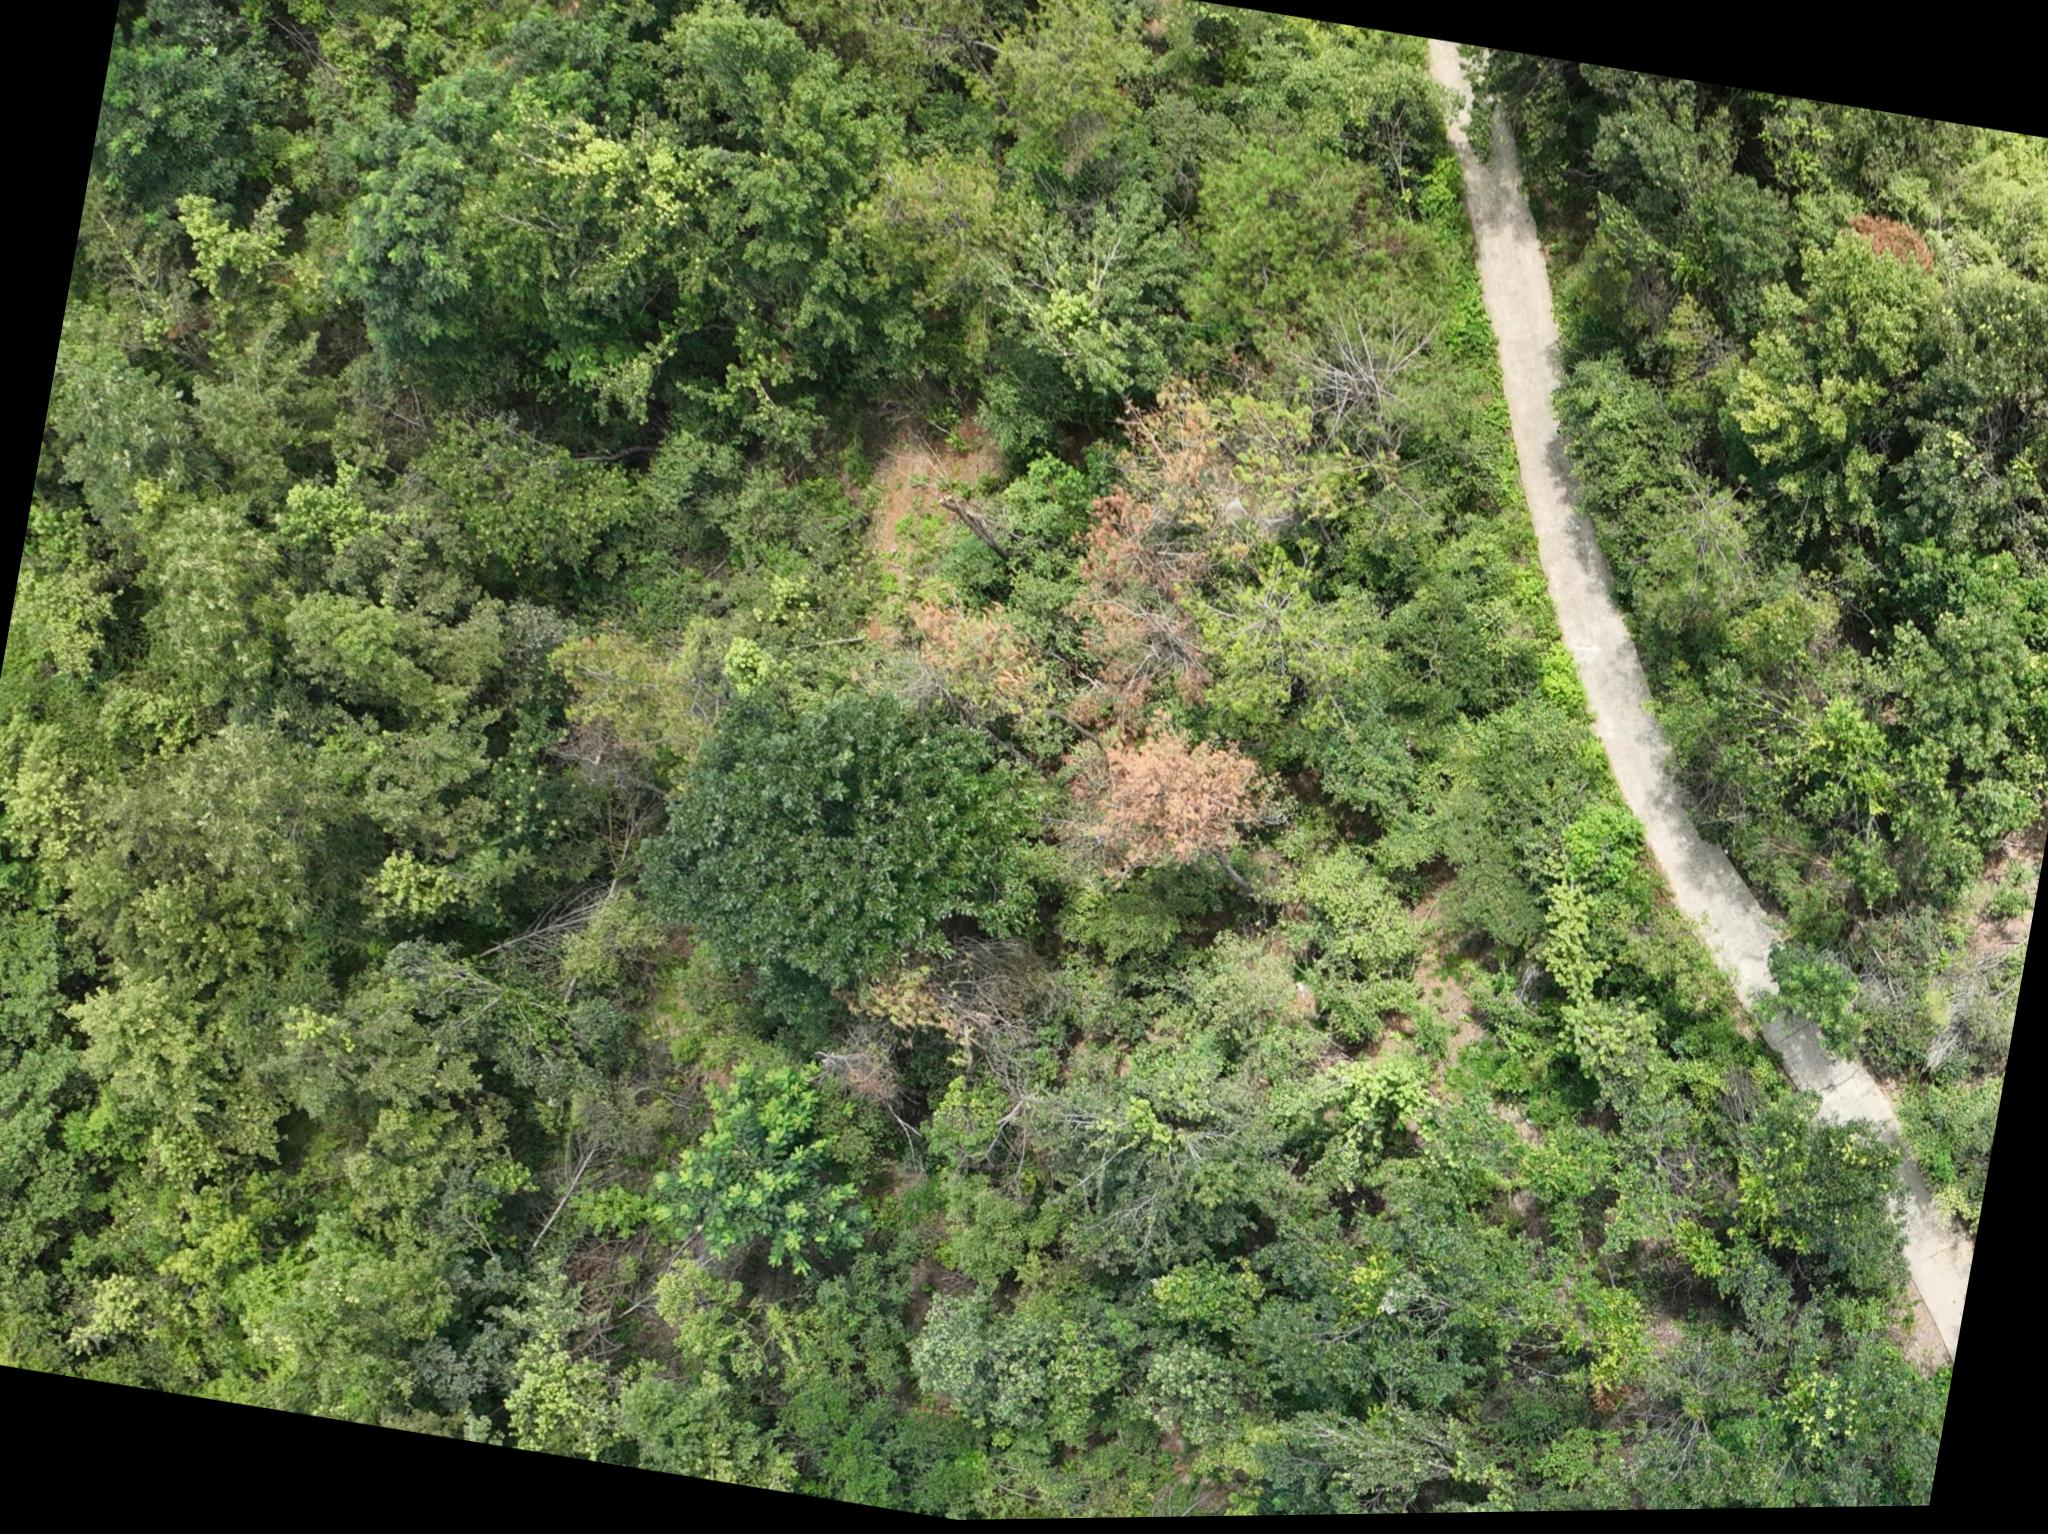heavy: (1052, 377, 1263, 696), (1046, 701, 1270, 902), (888, 585, 1043, 735)
